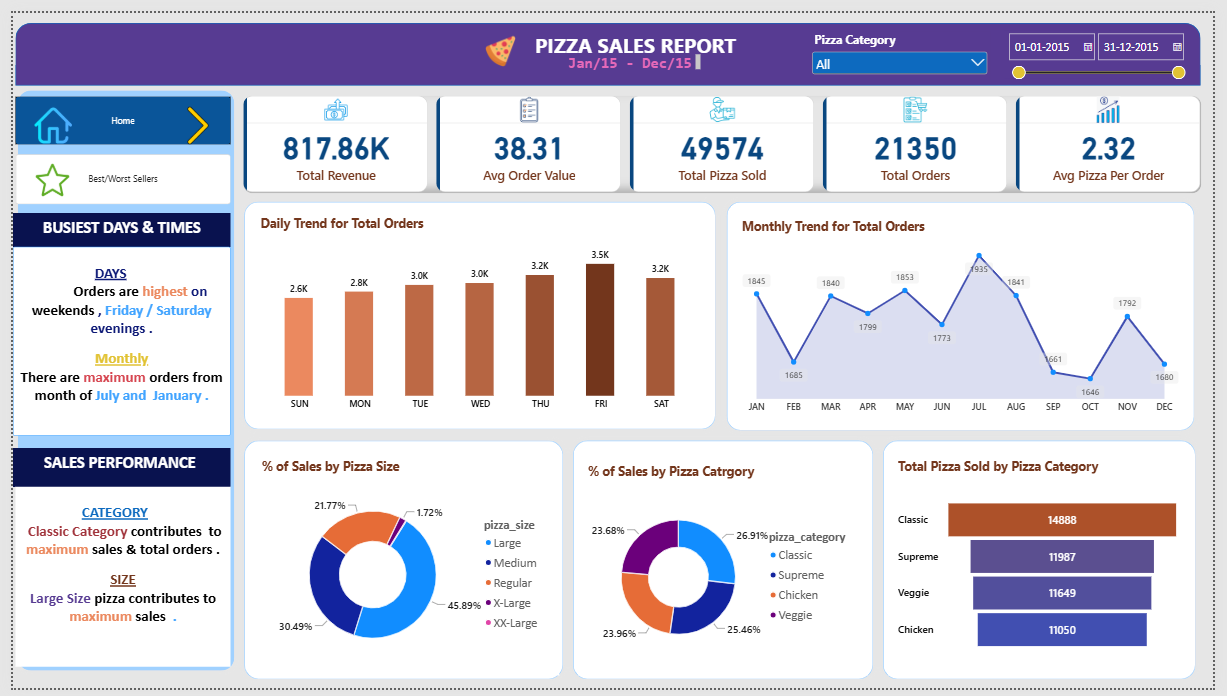

The page's visual inventory and layout, read from the dashboard file:
{"tool":"powerbi","page":{"name":"Home","canvas":[1920,1080],"ordinal":0},"visuals":[{"type":"shape","box":[0,116,362,944],"z":0},{"type":"cardVisual","fields":{"Data":["public pizza_sales.Total Revenue","public pizza_sales.Avg Order Value","public pizza_sales.Total Pizza Sold","public pizza_sales.Total Orders","public pizza_sales.Avg Pizza Per Order"]},"box":[366,130,1537.4,161],"z":1000},{"type":"shape","box":[4,16,1896,100],"z":2000},{"type":"textbox","box":[820,30,352,62],"z":3000},{"type":"textbox","box":[888,66,212,26],"z":4000},{"type":"image","box":[740,36,80,50],"z":5000},{"type":"shape","box":[362,294,770,380],"z":6000},{"type":"columnChart","title":"Daily Trend for Total Orders ","fields":{"Category":["public pizza_sales.Order Day"],"Y":["public pizza_sales.Total Orders"]},"box":[380,308,736,348],"z":7000},{"type":"shape","box":[1134,294,764,382],"z":8000},{"type":"areaChart","title":"Monthly Trend for Total Orders","fields":{"Category":["public pizza_sales.Order Month"],"Y":["public pizza_sales.Total Orders"]},"box":[1150,312,732,348],"z":9000},{"type":"shape","box":[888,676,496,398],"z":10000},{"type":"shape","box":[1384,676,516,398],"z":11000},{"type":"shape","box":[362,676,526,398],"z":12000},{"type":"donutChart","title":"% of Sales by Pizza Catrgory","fields":{"Y":["public pizza_sales.Total Revenue"],"Category":["public pizza_sales.pizza_category"]},"box":[904,704,464,356],"z":13000},{"type":"donutChart","title":"% of Sales by Pizza Size","fields":{"Y":["public pizza_sales.Total Revenue"],"Category":["public pizza_sales.pizza_size"]},"box":[382,696,492,364],"z":14000},{"type":"funnel","title":"Total Pizza Sold by Pizza Category","fields":{"Y":["public pizza_sales.Total Pizza Sold"],"Category":["public pizza_sales.pizza_category"]},"box":[1400,696,482,364],"z":15000},{"type":"textbox","box":[0,320,348,54],"z":16000},{"type":"textbox","box":[0,374,348,302],"z":17000},{"type":"textbox","box":[0,696,348,62],"z":18000},{"type":"textbox","box":[4,758,344,288],"z":19000},{"type":"slicer","fields":{"Values":["public pizza_sales.pizza_category"]},"box":[1274.8,29.3,289.8,77],"z":20000},{"type":"slicer","fields":{"Values":["public pizza_sales.order_date"]},"box":[1586.6,27.5,295.3,77],"z":21000},{"type":"pageNavigator","box":[4,134,344,76],"z":22000},{"type":"pageNavigator","box":[4,226,344,80],"z":23000},{"type":"image","box":[210,150,172,60],"z":24000},{"type":"image","box":[20,150,88,60],"z":25000},{"type":"image","box":[34,240,58,54],"z":26000}]}

Visuals, with their boxes in screenshot pixels (x1, y1, x2, y2), scaled from the page's 1920x1080 canvas onto the 1227x696 screenshot:
shape: crop(0, 75, 231, 683)
cardVisual - public pizza_sales.Total Revenue x public pizza_sales.Avg Order Value: crop(234, 84, 1216, 188)
shape: crop(3, 10, 1214, 75)
textbox: crop(524, 19, 749, 59)
textbox: crop(567, 43, 703, 59)
image: crop(473, 23, 524, 55)
shape: crop(231, 189, 723, 434)
"Daily Trend for Total Orders " columnChart: crop(243, 198, 713, 423)
shape: crop(725, 189, 1213, 436)
"Monthly Trend for Total Orders" areaChart: crop(735, 201, 1203, 425)
shape: crop(567, 436, 884, 692)
shape: crop(884, 436, 1214, 692)
shape: crop(231, 436, 567, 692)
"% of Sales by Pizza Catrgory" donutChart: crop(578, 454, 874, 683)
"% of Sales by Pizza Size" donutChart: crop(244, 449, 559, 683)
"Total Pizza Sold by Pizza Category" funnel: crop(895, 449, 1203, 683)
textbox: crop(0, 206, 222, 241)
textbox: crop(0, 241, 222, 436)
textbox: crop(0, 449, 222, 488)
textbox: crop(3, 488, 222, 674)
slicer - public pizza_sales.pizza_category: crop(815, 19, 1000, 69)
slicer - public pizza_sales.order_date: crop(1014, 18, 1203, 67)
pageNavigator: crop(3, 86, 222, 135)
pageNavigator: crop(3, 146, 222, 197)
image: crop(134, 97, 244, 135)
image: crop(13, 97, 69, 135)
image: crop(22, 155, 59, 189)
